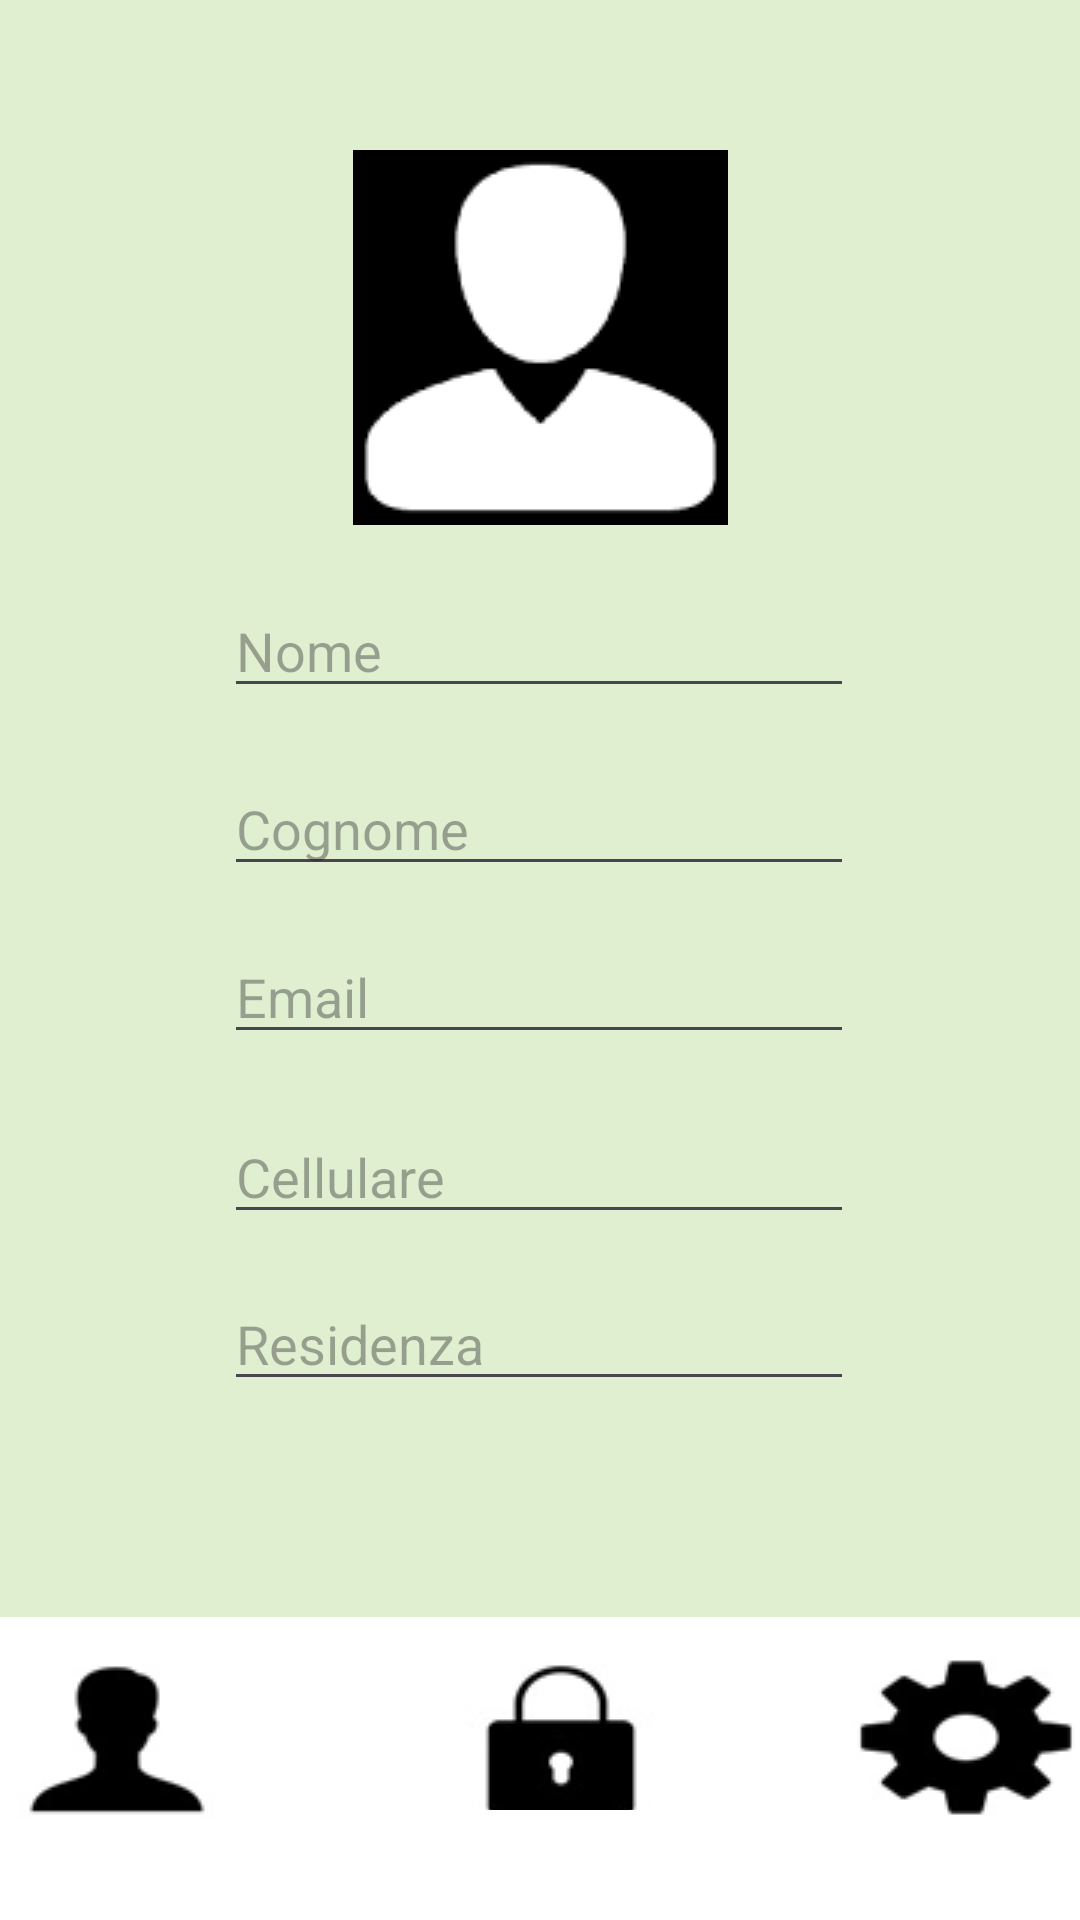

Named icons in this screenshot (1080×1920) and their bounding boxes, (x1, y1, x2, y2):
ingrana: (860, 1660, 1072, 1815)
lucchetto: (485, 1665, 637, 1810)
omino: (29, 1666, 205, 1813)
